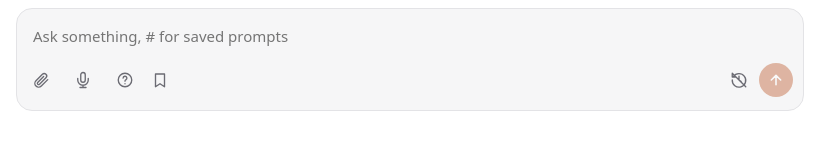
Scenario: dictation feedback › restores the original draft and unlocks when final transcription fails
Type "Keep my text" into the text box with placeholder "Ask something, # for saved prompts" at (413, 37), box [33,19,793,54]
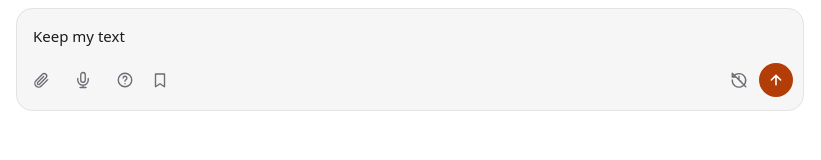
Click the button with class "dictation" at (83, 80), box [61,58,105,102]
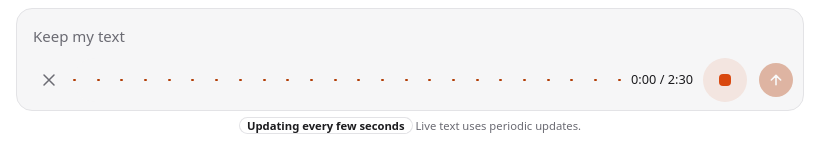
Click the button with class "dictation" at (410, 80), box [73,58,747,102]
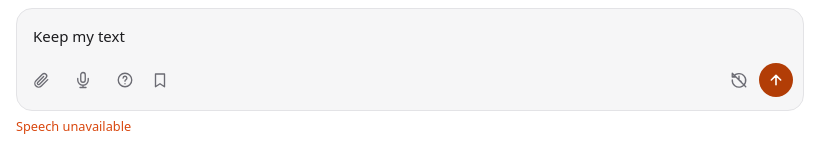
Expected: the message "Speech unavailable" is shown, [16,117,131,135]
